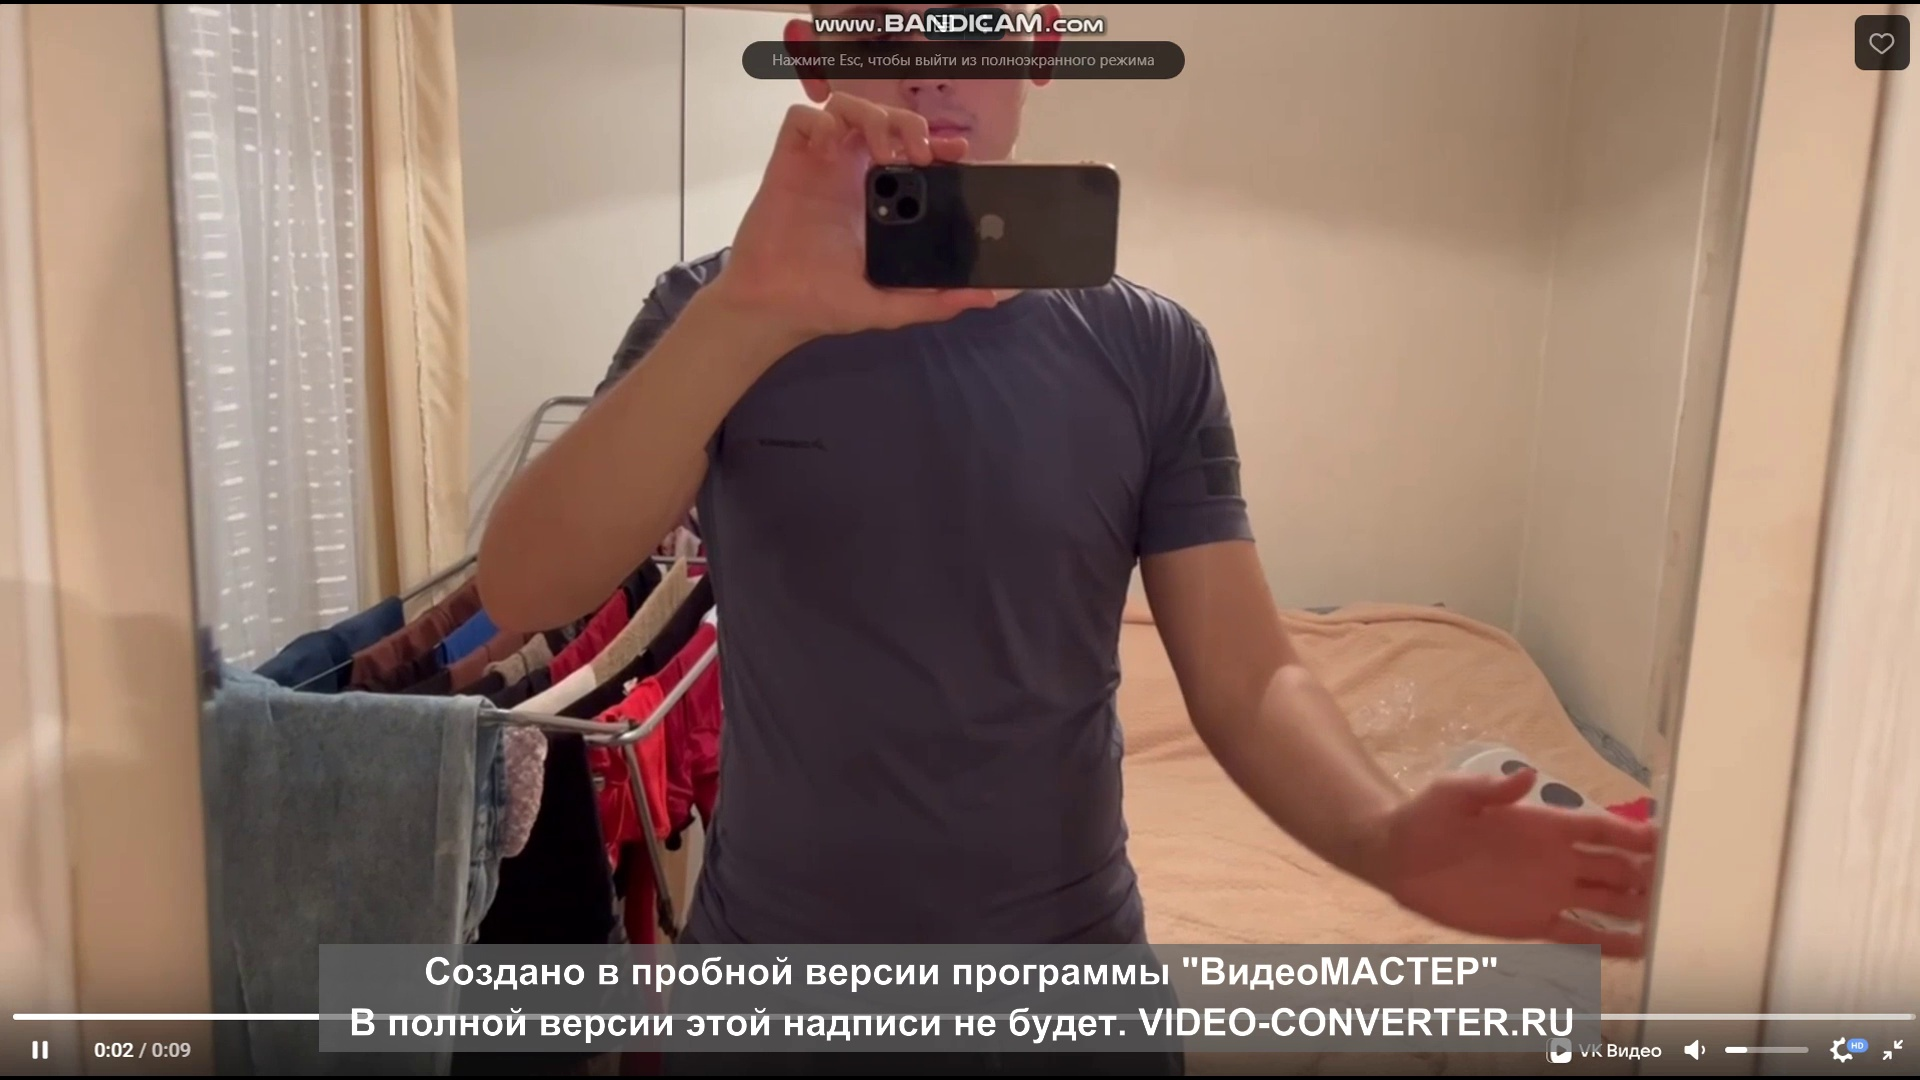Ладонь: (1383, 761, 1660, 939)
